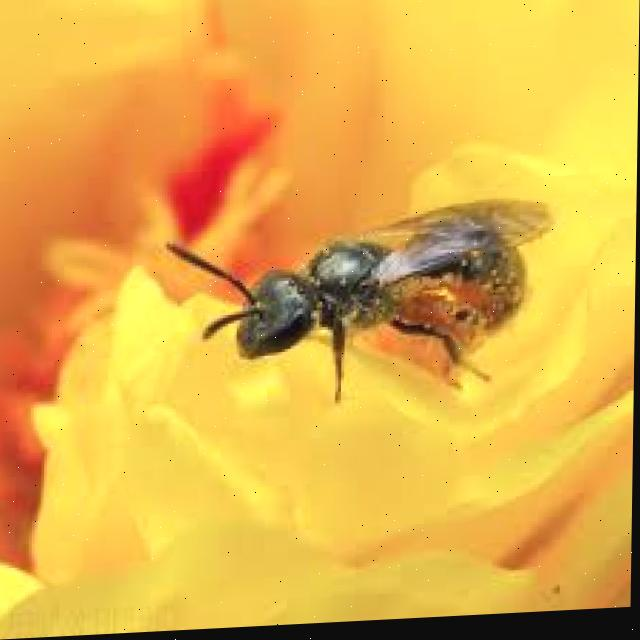Lasioglossum: (149, 169, 544, 416)
